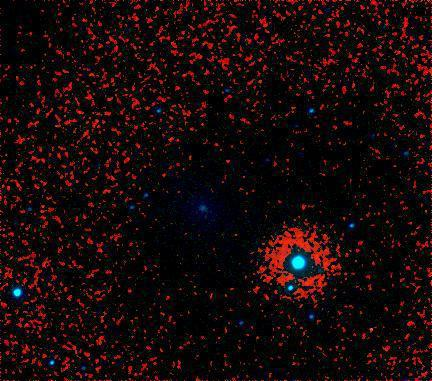star: (356, 314, 386, 344)
